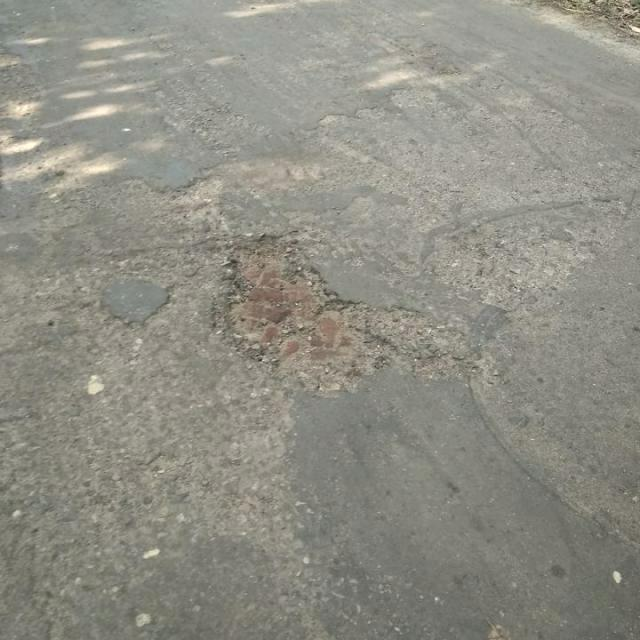Pothole: (211, 227, 389, 392)
